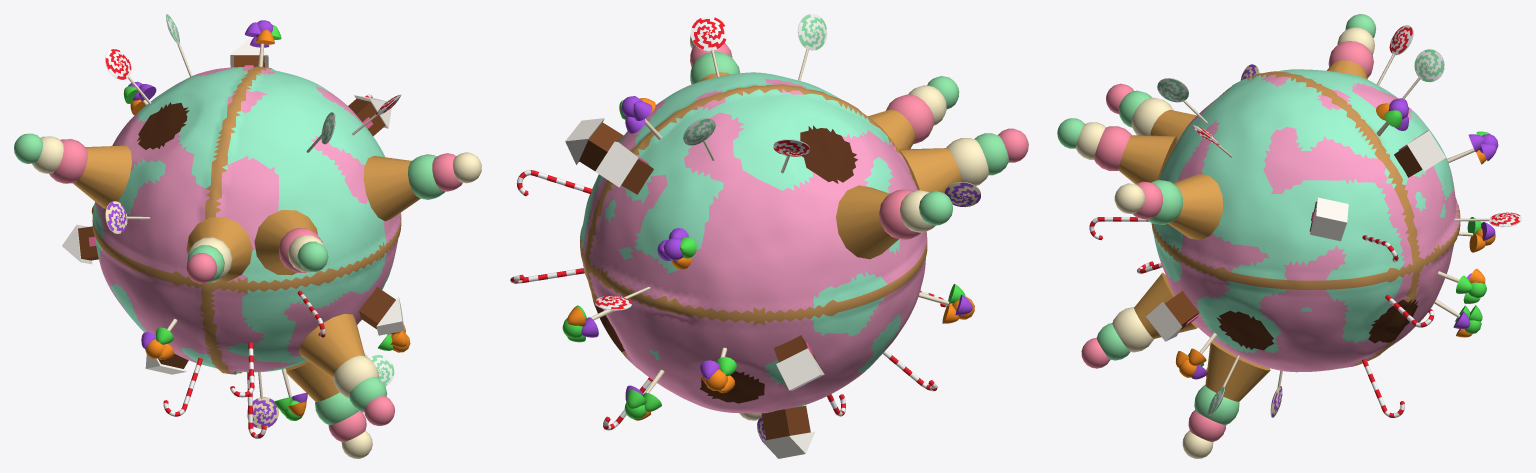
File: Dulces.obj
The picture shows the model from 3 angles, left to right: view 1: azimuth 30°, elevation 25°; view 2: azimuth 150°, elevation 25°; view 3: azimuth 270°, elevation 25°; orthographic projection. The views are drawn at different scales.
Parts seen in each view (by area): view 1: Planeta_Dulces, Montanas_Helado, Casas_Chocolate, Piruletas, Arboles_Caramelo, Bastones_Caramelo; view 2: Planeta_Dulces, Montanas_Helado, Casas_Chocolate, Arboles_Caramelo, Piruletas, Bastones_Caramelo; view 3: Planeta_Dulces, Montanas_Helado, Arboles_Caramelo, Casas_Chocolate, Piruletas, Bastones_Caramelo.
Part boxes in pixels (left/top/right/bottom): Planeta_Dulces: left=92, top=66, right=401, bottom=374; Montanas_Helado: left=14, top=133, right=481, bottom=458; Casas_Chocolate: left=62, top=39, right=404, bottom=374; Piruletas: left=105, top=14, right=401, bottom=428; Arboles_Caramelo: left=91, top=20, right=410, bottom=420; Bastones_Caramelo: left=163, top=94, right=372, bottom=438; Planeta_Dulces: left=580, top=72, right=927, bottom=413; Montanas_Helado: left=690, top=35, right=1028, bottom=420; Casas_Chocolate: left=565, top=118, right=824, bottom=458; Arboles_Caramelo: left=562, top=96, right=974, bottom=420; Piruletas: left=595, top=14, right=980, bottom=440; Bastones_Caramelo: left=510, top=170, right=946, bottom=430; Planeta_Dulces: left=1151, top=69, right=1460, bottom=372; Montanas_Helado: left=1057, top=14, right=1375, bottom=458; Arboles_Caramelo: left=1175, top=98, right=1498, bottom=379; Casas_Chocolate: left=1146, top=130, right=1445, bottom=341; Piruletas: left=1157, top=25, right=1521, bottom=417; Bastones_Caramelo: left=1089, top=217, right=1434, bottom=417.
Size of the model in its own units: 14.06 by 13.47 by 15.23.
